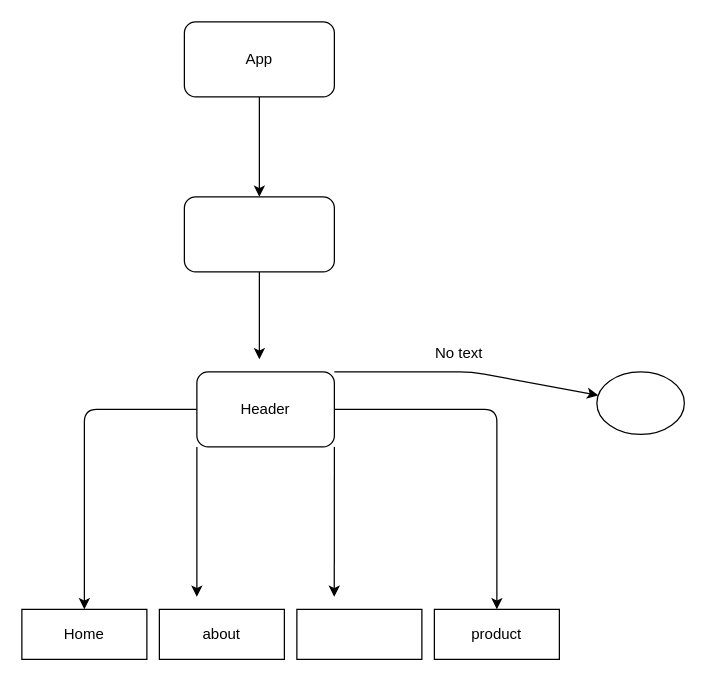
Image size: 706x681. Some labels were removed from this diagram. The centre of each missing label's shape, as x and y in pixels:
"AppRouter" belongs at (x=258, y=234).
"login" belongs at (x=359, y=633).
"Not Found" belongs at (x=640, y=402).
